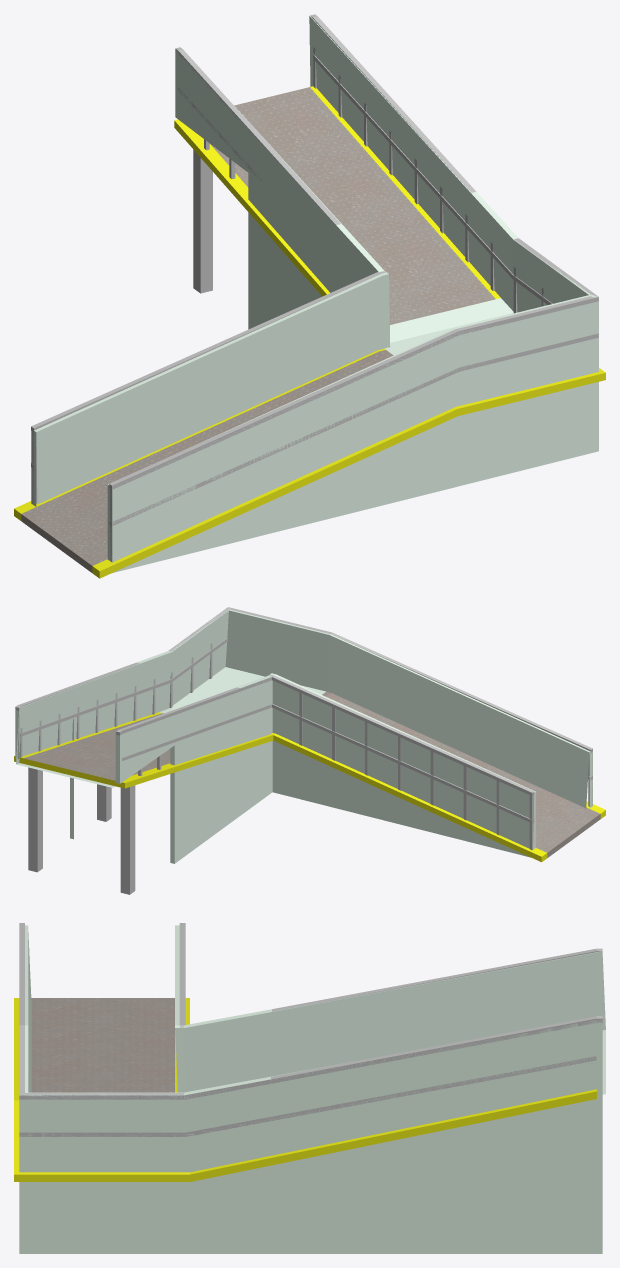
File: GBZH35_Helipad_Ramp01.gltf
3 renders of one model, top to bottom at view 1: azimuth 30°, elevation 25°; view 2: azimuth 150°, elevation 25°; view 3: azimuth 270°, elevation 25°, orthographic. The views are drawn at different scales.
Parts seen in each view (by area): view 1: Ramp01; view 2: Ramp01; view 3: Ramp01.
Part boxes in pixels (box(x1,y1,x2,y2)): Ramp01: box(14, 14, 605, 578); Ramp01: box(14, 607, 605, 894); Ramp01: box(14, 923, 605, 1253).
Bounding box in the file's own units: 8.21 × 3.6 × 8.09.
